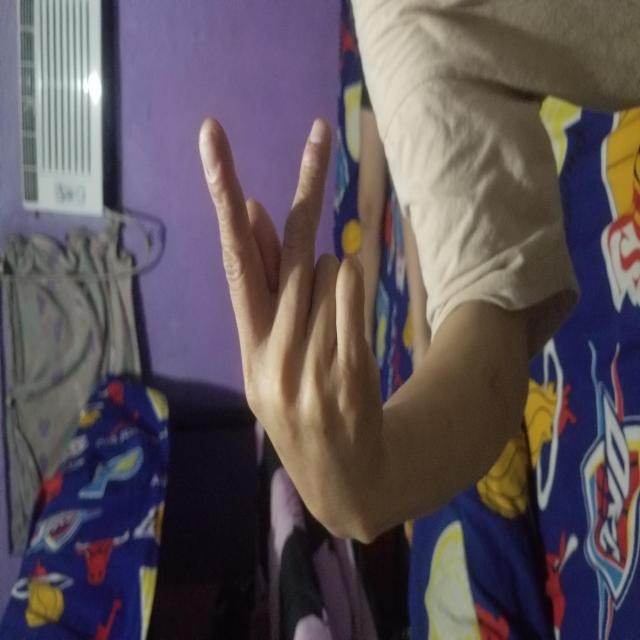K: (105, 198, 523, 382)
